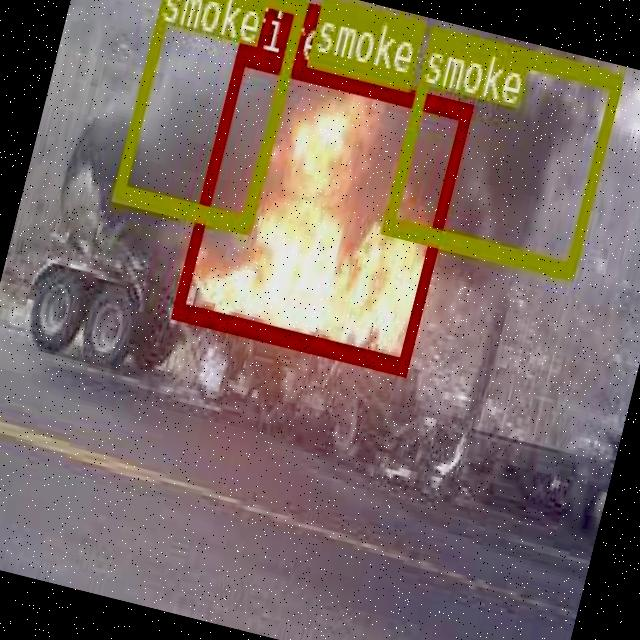fire: (171, 44, 470, 370)
smoke: (381, 22, 623, 276), (111, 0, 306, 230), (307, 0, 423, 85)
